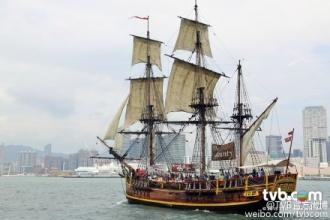fanchuan: (92, 8, 301, 207)
